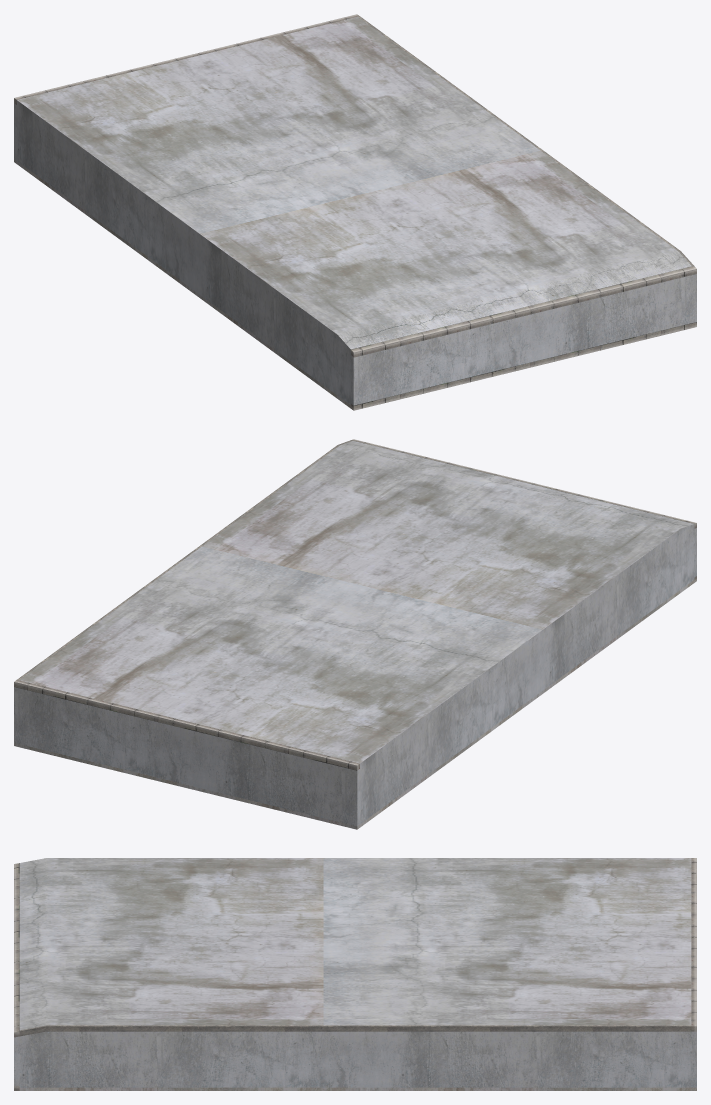
File: bil_site_01_7mx12m.fbx
The picture shows the model from 3 angles, top to bottom: view 1: azimuth 30°, elevation 25°; view 2: azimuth 150°, elevation 25°; view 3: azimuth 270°, elevation 25°; orthographic projection.
Visible parts, largest first — view 1: bil_site_01_7mx12m; view 2: bil_site_01_7mx12m; view 3: bil_site_01_7mx12m.
Part boxes in pixels (x1=…): bil_site_01_7mx12m: x1=14, y1=14, x2=696, y2=410; bil_site_01_7mx12m: x1=14, y1=439, x2=696, y2=829; bil_site_01_7mx12m: x1=14, y1=858, x2=696, y2=1090.
Bounding box in the file's own units: 700 × 125 × 1200.
